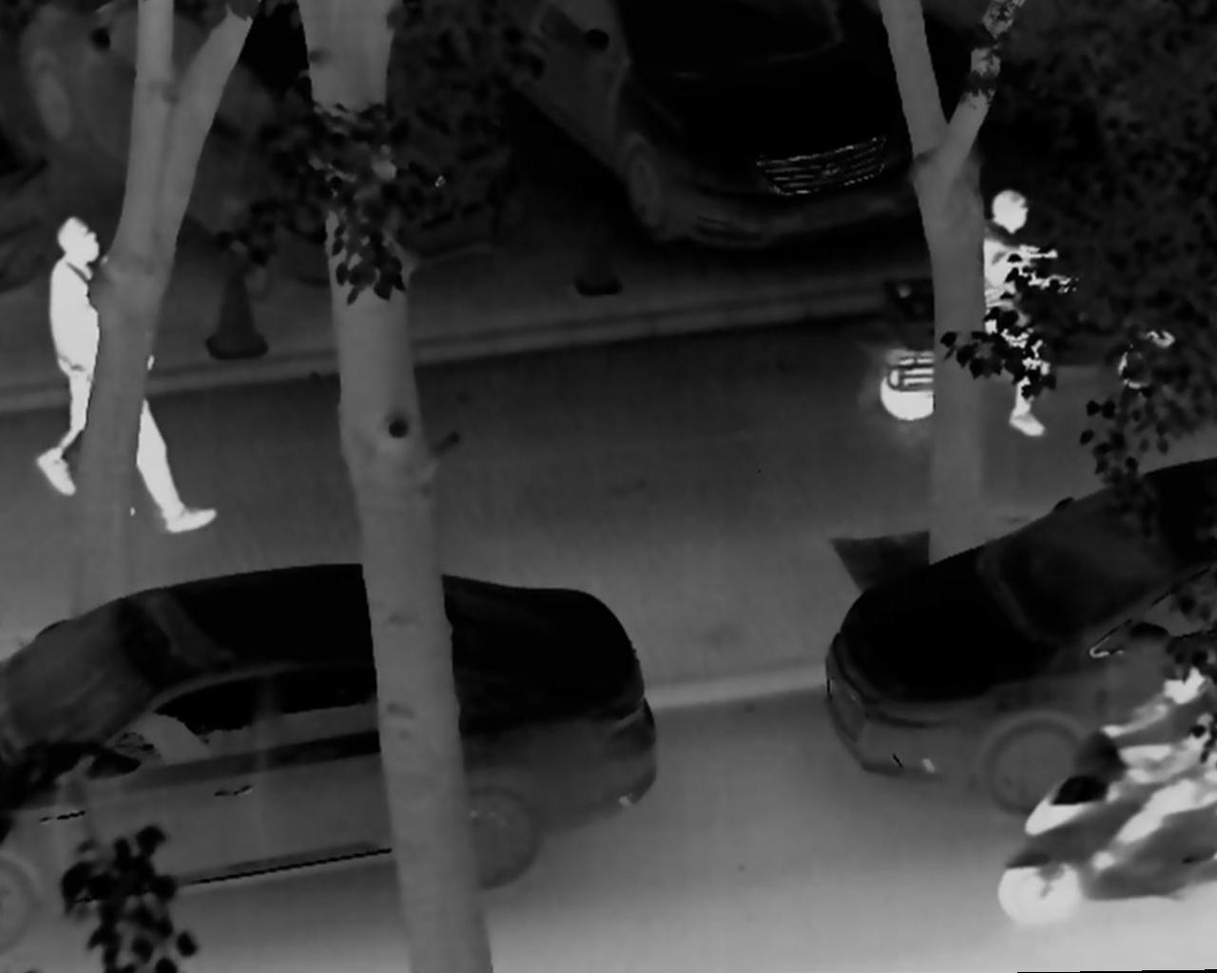person: (84, 285, 217, 539), (1091, 633, 1217, 889), (29, 209, 116, 499), (976, 185, 1059, 445), (1107, 296, 1180, 396)
